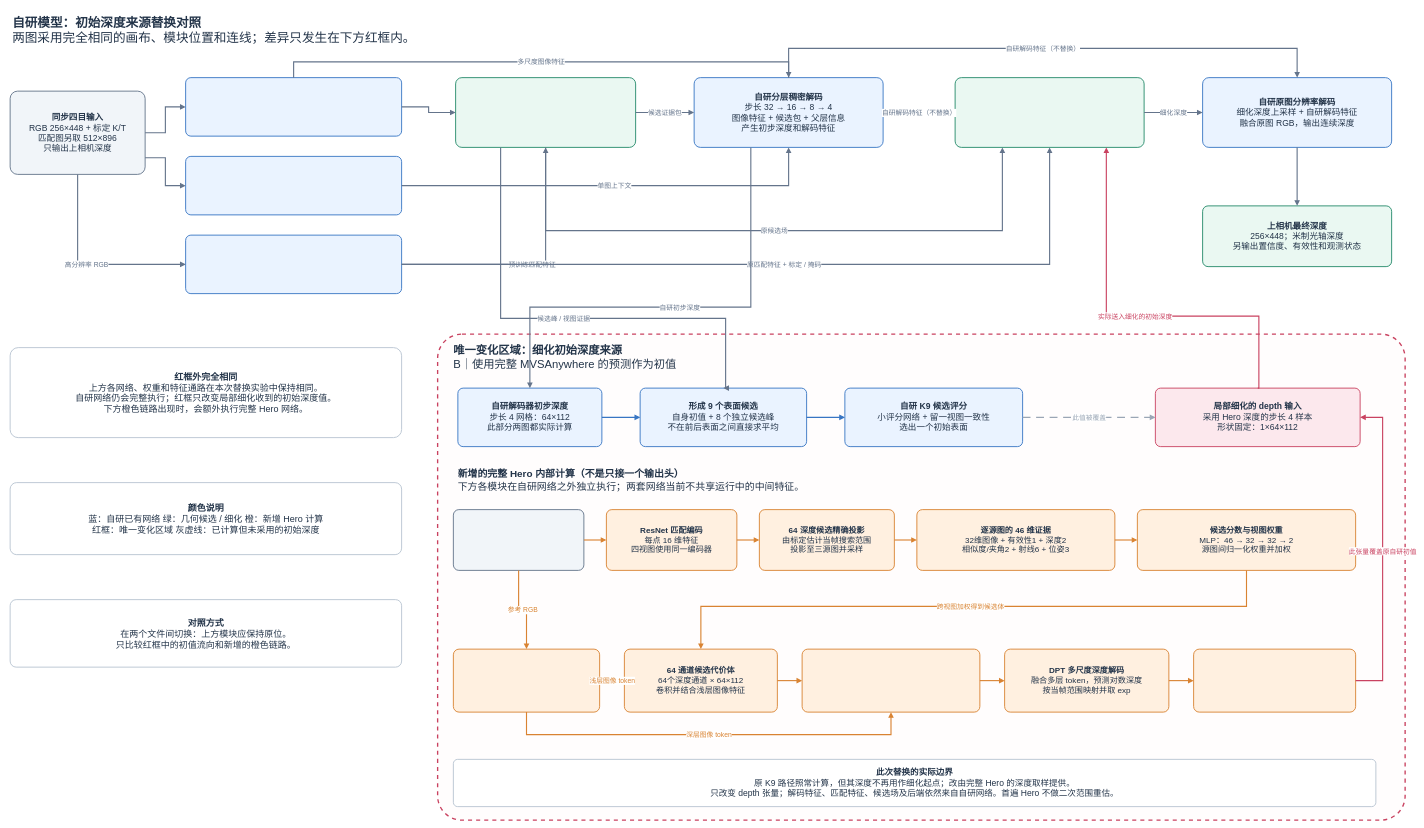
Some shapes in this 1424 by 828 pixel diagram are drawn without their labels. The box of each missing label's shape, as (x1, y1, x2, y2) in pixels:
Hero 全图深度 → 取样 256×448 → [::4, ::4] 得到细化所需的 64×112: (1193, 648, 1356, 712)
单图 ViT-B：12层 Depth Anything 初始化 浅层 / 深层图像 token: (453, 648, 600, 712)
同一四目 RGB + K/T 上相机参考 + 三张源图 图像为 256×448: (453, 509, 584, 571)
已有 Hero ResNet 匹配编码器 四图共用，每点 16 维描述子 从高分辨率匹配图中提取: (185, 234, 402, 294)
已有单图上下文 冻结 ViT-B，多层图像特征 权重来自 Hero 的单图编码分支: (185, 156, 402, 215)
第二个 ViT-B：12层 候选体变为 token 后联合推理 第3/6/9/12层融合图像token: (801, 648, 980, 712)
自研多视图候选证据 192 个深度候选；标定精确投影 持久候选场与多视图匹配: (455, 77, 636, 148)
自研标定局部细化 初始深度 + 解码特征 + 匹配描述子 投影导数定尺度，精确重投影 9 个局部候选，两轮可靠性门控: (954, 77, 1144, 148)
自研深 CNN / 特征金字塔 五级残差层 [2,3,4,3,2] 输出步长 4 / 8 / 16 / 32: (185, 77, 402, 136)
